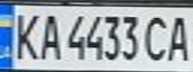3: (118, 11, 145, 62), (103, 11, 124, 62)
4: (63, 10, 87, 61), (84, 11, 106, 61)
A: (163, 11, 193, 63), (36, 10, 63, 61)
C: (142, 11, 172, 63)
K: (6, 9, 42, 61)
